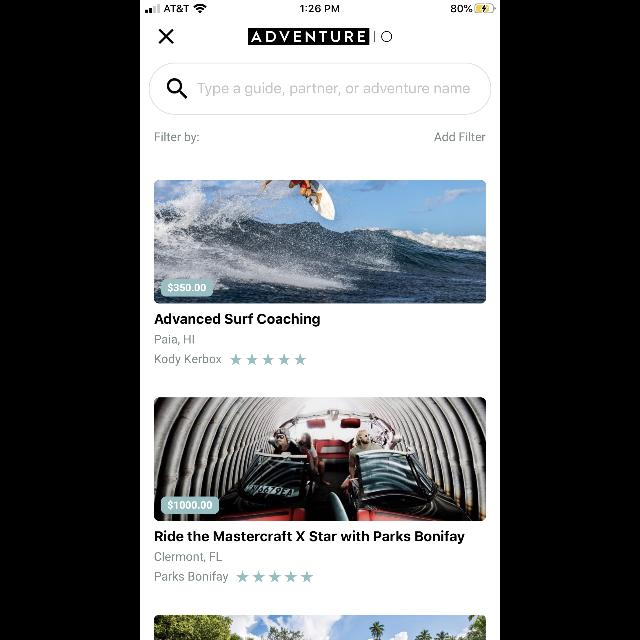icon: (236, 571, 314, 583), (230, 354, 306, 364), (167, 79, 187, 99), (158, 30, 174, 44)
image: (154, 180, 486, 304), (154, 398, 486, 520), (154, 614, 486, 640), (248, 28, 392, 46)
input: (149, 63, 491, 115)
text: (156, 530, 464, 544), (197, 83, 469, 97), (154, 313, 320, 327), (156, 571, 228, 583), (155, 354, 221, 366), (156, 552, 222, 562), (155, 132, 199, 144), (434, 132, 486, 142), (156, 334, 194, 346)
textbutton: (161, 496, 219, 514), (161, 280, 213, 296)
uppertaskbar: (140, 0, 500, 14)
